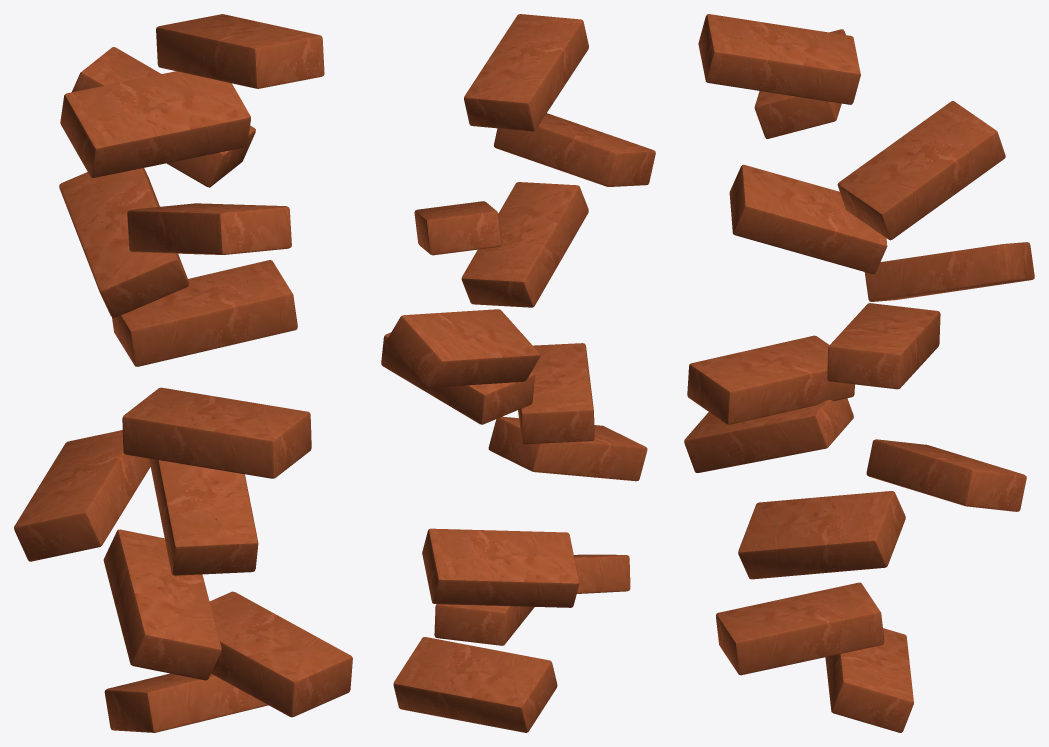
Rendered from ALV-TIJ-001_anim.glb.
The picture shows the model from 3 angles, left to right: view 1: azimuth 30°, elevation 25°; view 2: azimuth 150°, elevation 25°; view 3: azimuth 270°, elevation 25°; orthographic projection. The views are drawn at different scales.
Parts seen in each view (by area): view 1: ALV-TIJ-001_anim10, ALV-TIJ-001_anim5, ALV-TIJ-001_anim6, ALV-TIJ-001_anim2, ALV-TIJ-001_anim1, ALV-TIJ-001_anim3, ALV-TIJ-001_anim7, ALV-TIJ-001_anim4, ALV-TIJ-001_anim11, ALV-TIJ-001_anim8, ALV-TIJ-001_anim0, ALV-TIJ-001_anim9; view 2: ALV-TIJ-001_anim3, ALV-TIJ-001_anim0, ALV-TIJ-001_anim8, ALV-TIJ-001_anim11, ALV-TIJ-001_anim7, ALV-TIJ-001_anim10, ALV-TIJ-001_anim5, ALV-TIJ-001_anim4, ALV-TIJ-001_anim9, ALV-TIJ-001_anim6, ALV-TIJ-001_anim1, ALV-TIJ-001_anim2; view 3: ALV-TIJ-001_anim9, ALV-TIJ-001_anim2, ALV-TIJ-001_anim11, ALV-TIJ-001_anim1, ALV-TIJ-001_anim8, ALV-TIJ-001_anim5, ALV-TIJ-001_anim6, ALV-TIJ-001_anim4, ALV-TIJ-001_anim3, ALV-TIJ-001_anim7, ALV-TIJ-001_anim0, ALV-TIJ-001_anim10.
Boxes of the visible parts, x1,y1,x2,y2 form: ALV-TIJ-001_anim10: (60, 71, 250, 177); ALV-TIJ-001_anim5: (122, 387, 311, 478); ALV-TIJ-001_anim6: (112, 260, 297, 366); ALV-TIJ-001_anim2: (103, 529, 221, 680); ALV-TIJ-001_anim1: (209, 591, 352, 717); ALV-TIJ-001_anim3: (14, 430, 150, 561); ALV-TIJ-001_anim7: (59, 168, 189, 317); ALV-TIJ-001_anim4: (149, 458, 258, 575); ALV-TIJ-001_anim11: (156, 14, 324, 88); ALV-TIJ-001_anim8: (127, 203, 291, 254); ALV-TIJ-001_anim0: (104, 673, 268, 732); ALV-TIJ-001_anim9: (72, 47, 255, 187); ALV-TIJ-001_anim3: (422, 528, 579, 607); ALV-TIJ-001_anim0: (393, 637, 557, 732); ALV-TIJ-001_anim8: (461, 182, 588, 307); ALV-TIJ-001_anim11: (464, 14, 588, 131); ALV-TIJ-001_anim7: (386, 309, 540, 387); ALV-TIJ-001_anim10: (494, 113, 655, 186); ALV-TIJ-001_anim5: (518, 343, 594, 444); ALV-TIJ-001_anim4: (488, 416, 647, 481); ALV-TIJ-001_anim9: (414, 201, 501, 255); ALV-TIJ-001_anim6: (381, 332, 535, 424); ALV-TIJ-001_anim1: (434, 604, 534, 645); ALV-TIJ-001_anim2: (574, 554, 630, 593); ALV-TIJ-001_anim9: (837, 101, 1005, 240); ALV-TIJ-001_anim2: (738, 491, 905, 579); ALV-TIJ-001_anim11: (698, 14, 860, 104); ALV-TIJ-001_anim1: (716, 582, 884, 675); ALV-TIJ-001_anim8: (729, 164, 887, 274); ALV-TIJ-001_anim5: (687, 335, 854, 424); ALV-TIJ-001_anim6: (827, 303, 940, 389); ALV-TIJ-001_anim4: (684, 398, 853, 472); ALV-TIJ-001_anim3: (866, 439, 1026, 511); ALV-TIJ-001_anim7: (864, 242, 1034, 301); ALV-TIJ-001_anim0: (825, 628, 913, 732); ALV-TIJ-001_anim10: (754, 29, 845, 138).
Size of the model in its own units: 0.3404 by 0.9716 by 0.4583.
1 material, 1 textured.
